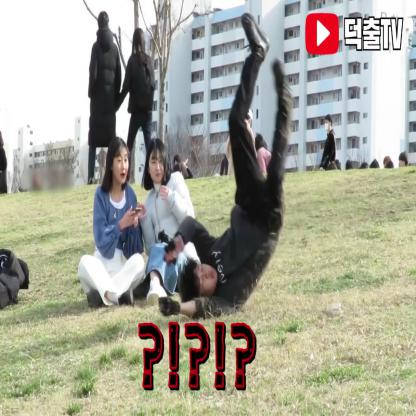Fall_Down: (156, 9, 293, 320)
